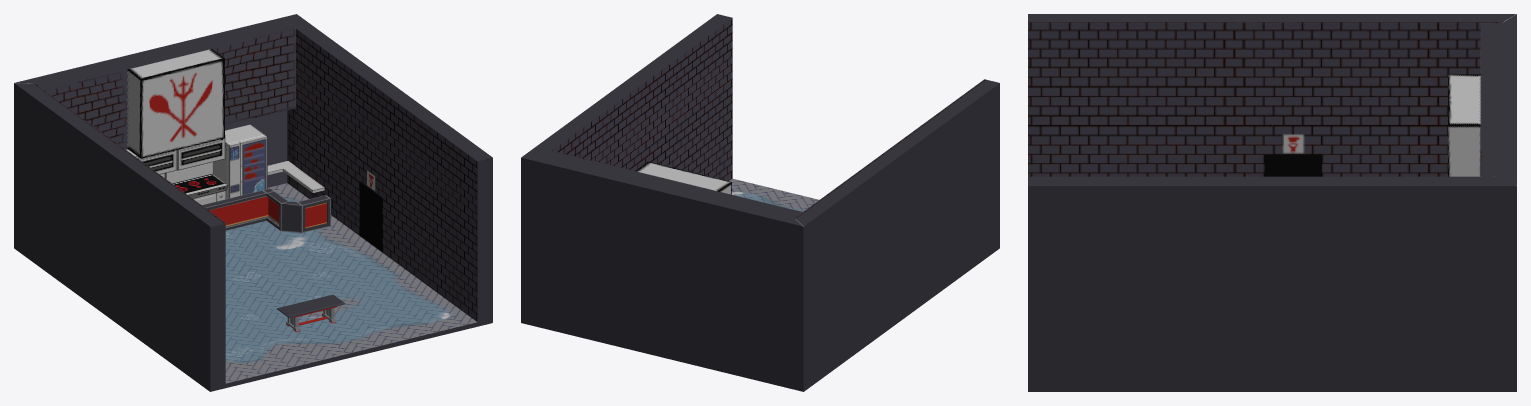
The model's file is Whole Room.fbx.
The picture shows the model from 3 angles, left to right: view 1: azimuth 30°, elevation 25°; view 2: azimuth 150°, elevation 25°; view 3: azimuth 270°, elevation 25°; orthographic projection. The views are drawn at different scales.
Parts seen in each view (by area): view 1: Room, Counter, Fridge, Stove, Table, Inner Counter L, Stove.001; view 2: Room; view 3: Room.
Part boxes in pixels (x1=…): Room: x1=14, y1=14, x2=492, y2=391; Counter: x1=202, y1=188, x2=330, y2=232; Fridge: x1=213, y1=124, x2=267, y2=198; Stove: x1=164, y1=135, x2=228, y2=204; Table: x1=276, y1=294, x2=345, y2=332; Inner Counter L: x1=267, y1=161, x2=324, y2=193; Stove.001: x1=126, y1=149, x2=176, y2=177; Room: x1=521, y1=14, x2=999, y2=391; Room: x1=1028, y1=14, x2=1516, y2=391.
Size of the model in its own units: 4581 by 2561 by 5507.
